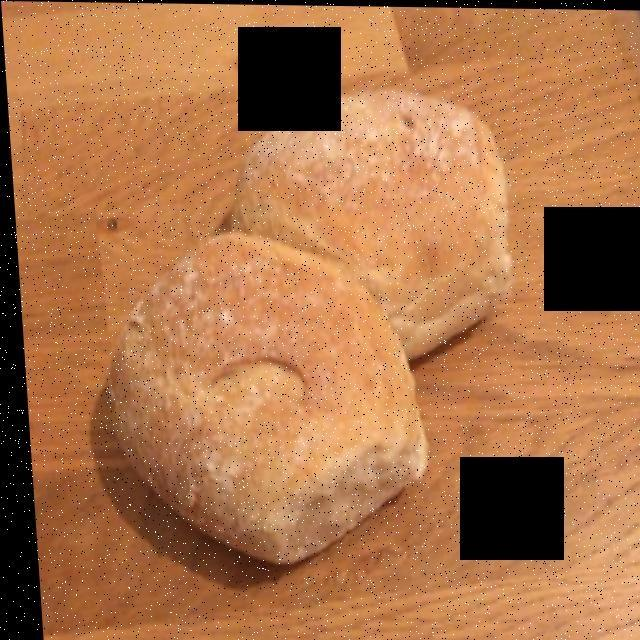bread: (87, 80, 513, 567), (81, 87, 514, 555)
